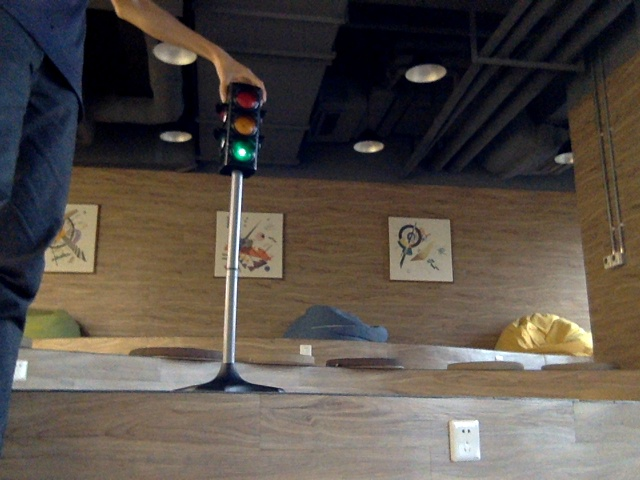green: (228, 89, 259, 164)
